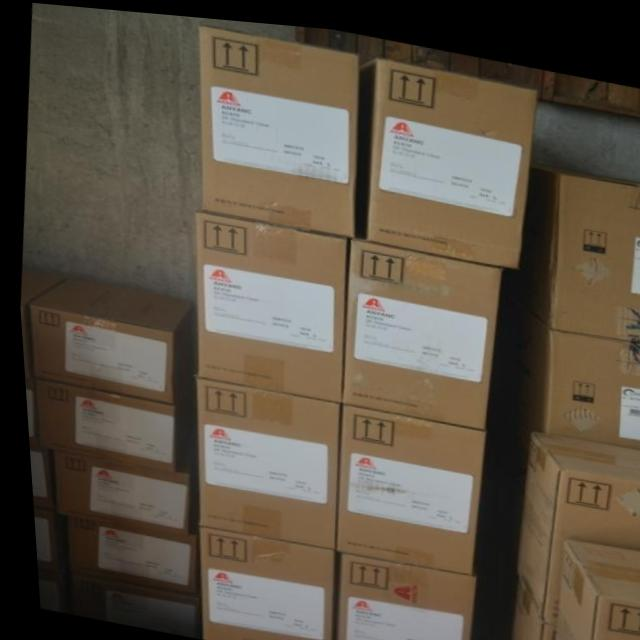box: (353, 51, 537, 259), (197, 20, 358, 231), (336, 231, 498, 420), (192, 207, 344, 397), (329, 398, 481, 568), (507, 421, 640, 614), (190, 374, 334, 544), (516, 152, 640, 331), (25, 276, 191, 400), (504, 295, 640, 441), (190, 523, 326, 640), (327, 547, 466, 640), (27, 377, 169, 468), (49, 450, 184, 533), (542, 528, 640, 640), (60, 517, 189, 593)
